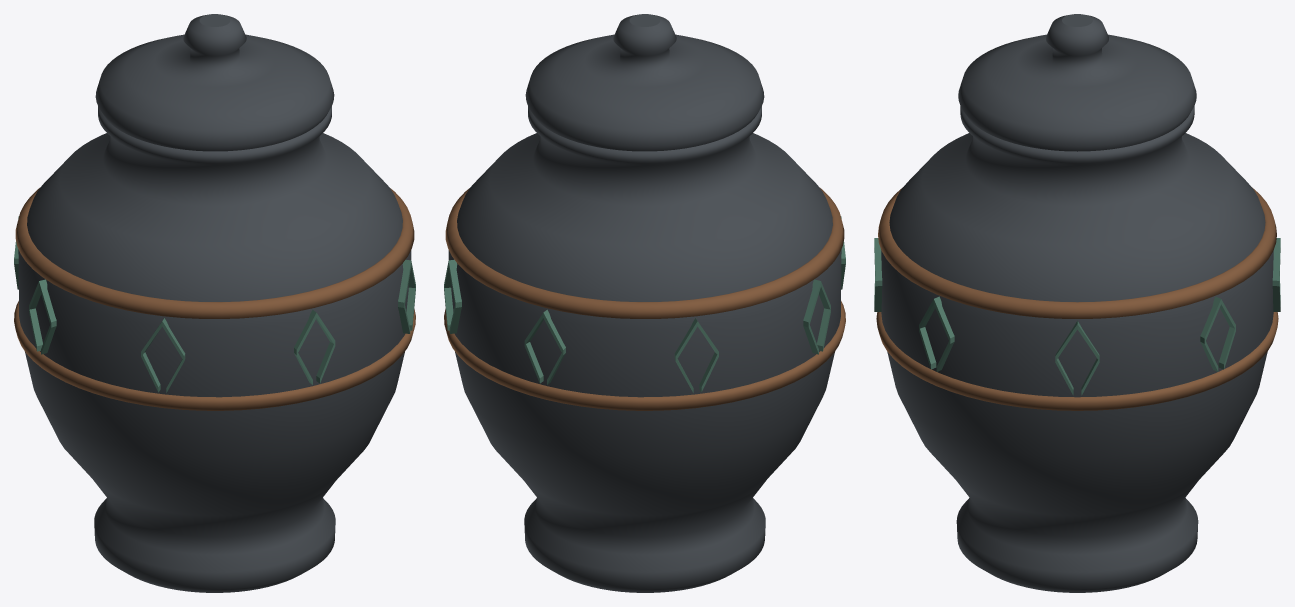
File: valdris_funerary_urn.glb
The picture shows the model from 3 angles, left to right: view 1: azimuth 30°, elevation 25°; view 2: azimuth 150°, elevation 25°; view 3: azimuth 270°, elevation 25°; orthographic projection.
Visible parts, largest first — view 1: Basalt urn body, Basalt lid, Upper bronze band, Lower bronze band, Fractured seal ridges; view 2: Basalt urn body, Basalt lid, Upper bronze band, Lower bronze band, Fractured seal ridges; view 3: Basalt urn body, Basalt lid, Upper bronze band, Lower bronze band, Fractured seal ridges.
Part boxes in pixels (x1=…): Basalt urn body: x1=18, y1=106, x2=411, y2=592; Basalt lid: x1=95, y1=14, x2=334, y2=151; Upper bronze band: x1=15, y1=187, x2=414, y2=318; Lower bronze band: x1=14, y1=301, x2=415, y2=410; Fractured seal ridges: x1=14, y1=216, x2=415, y2=392; Basalt urn body: x1=448, y1=106, x2=841, y2=592; Basalt lid: x1=525, y1=14, x2=764, y2=151; Upper bronze band: x1=445, y1=187, x2=844, y2=318; Lower bronze band: x1=444, y1=301, x2=845, y2=410; Fractured seal ridges: x1=444, y1=216, x2=845, y2=392; Basalt urn body: x1=881, y1=106, x2=1273, y2=592; Basalt lid: x1=958, y1=14, x2=1196, y2=151; Upper bronze band: x1=878, y1=187, x2=1276, y2=318; Lower bronze band: x1=876, y1=312, x2=1278, y2=410; Fractured seal ridges: x1=874, y1=238, x2=1280, y2=395.
Size of the model in its own units: 0.552 by 0.79 by 0.552.
